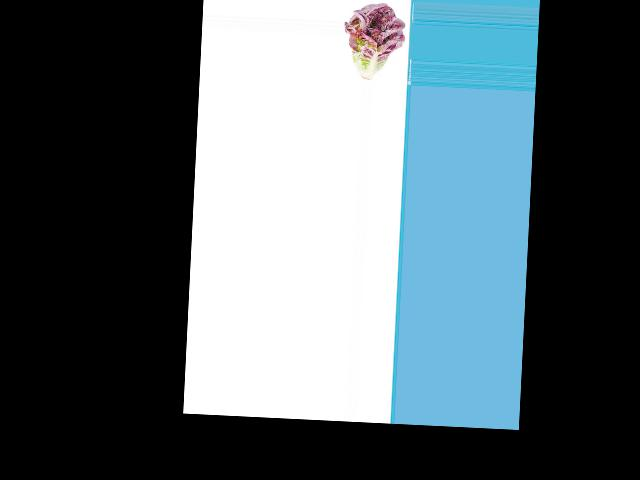lettuce: (344, 2, 406, 82)
